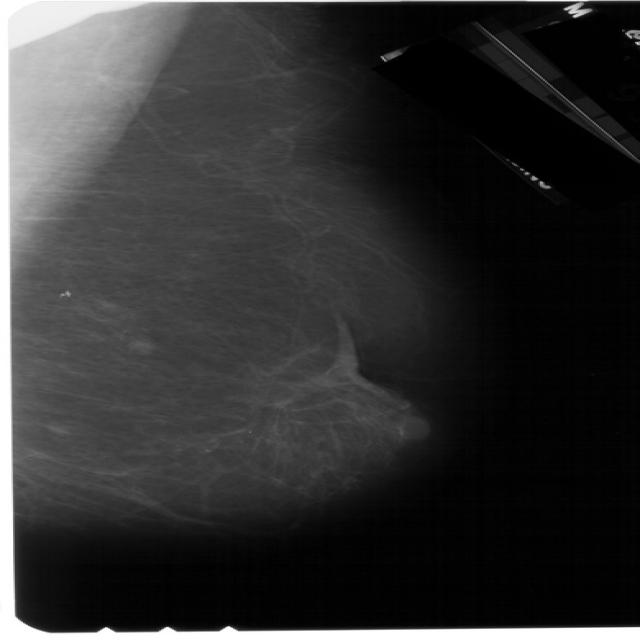tumour: (125, 334, 151, 355)
